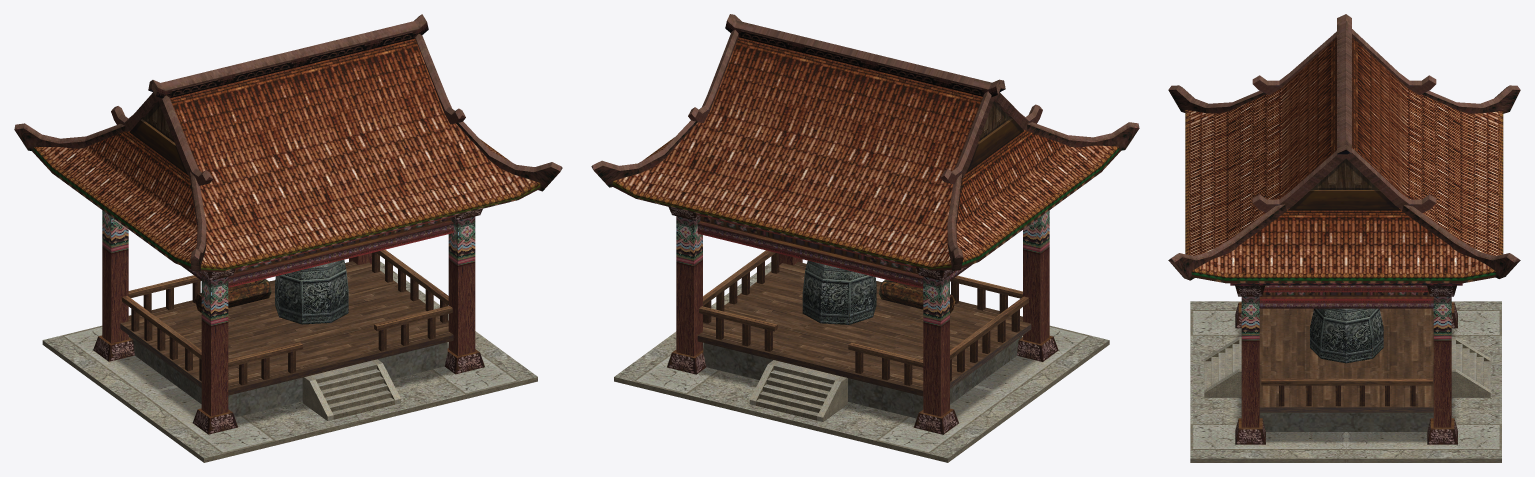
File: a1-landmark-01-bellhouse.fbx
3 views of the same model, side by side, from view 1: azimuth 30°, elevation 25°; view 2: azimuth 150°, elevation 25°; view 3: azimuth 270°, elevation 25° (orthographic). The views are drawn at different scales.
Visible parts, largest first — view 1: bell; view 2: bell; view 3: bell.
Boxes of the visible parts, x1=… form: bell: x1=14, y1=14, x2=562, y2=462; bell: x1=591, y1=14, x2=1139, y2=462; bell: x1=1168, y1=14, x2=1520, y2=462.
Size of the model in its own units: 12.97 by 10.56 by 11.03.
